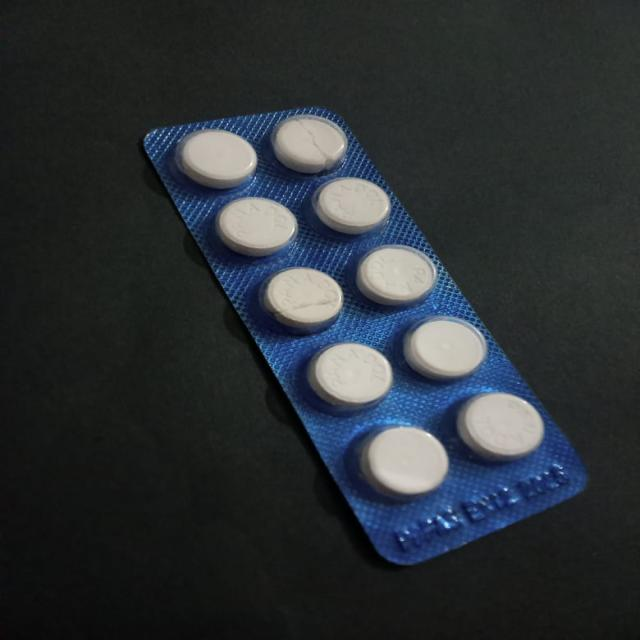defect: (260, 267, 348, 334), (268, 113, 351, 174)
